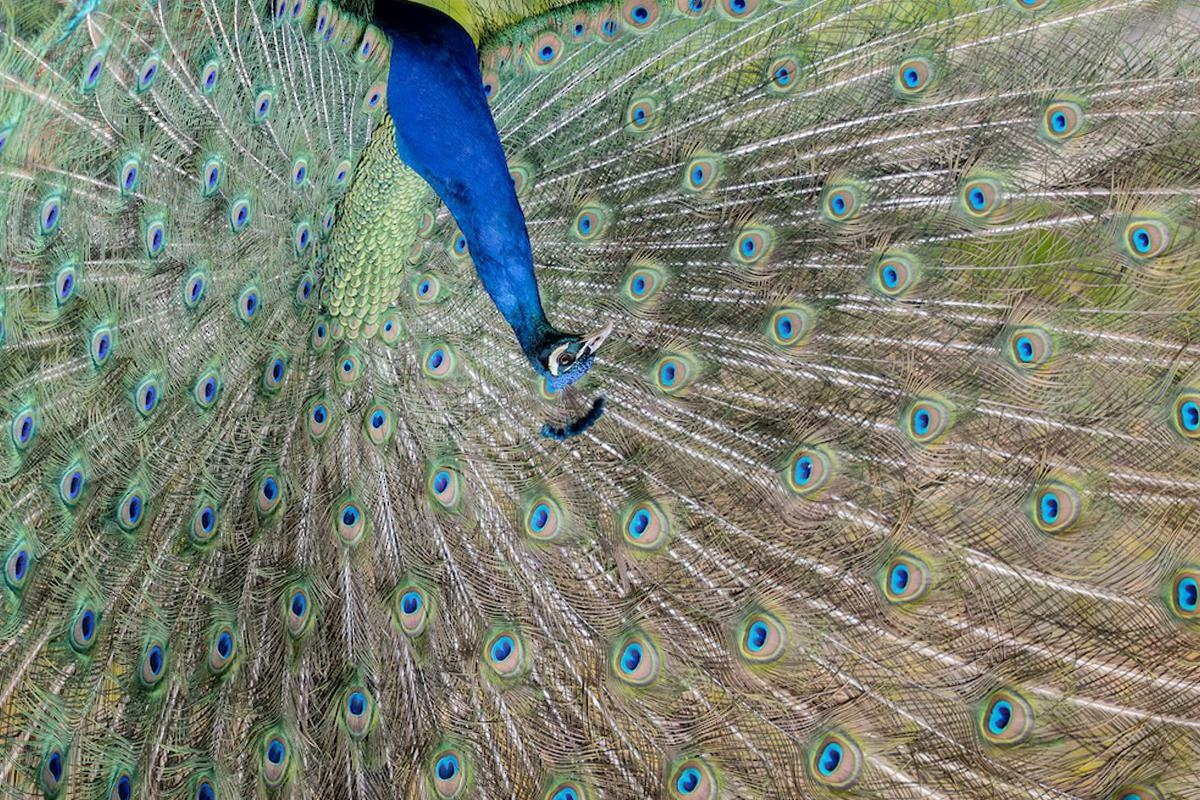peacock: (27, 6, 1200, 800)
